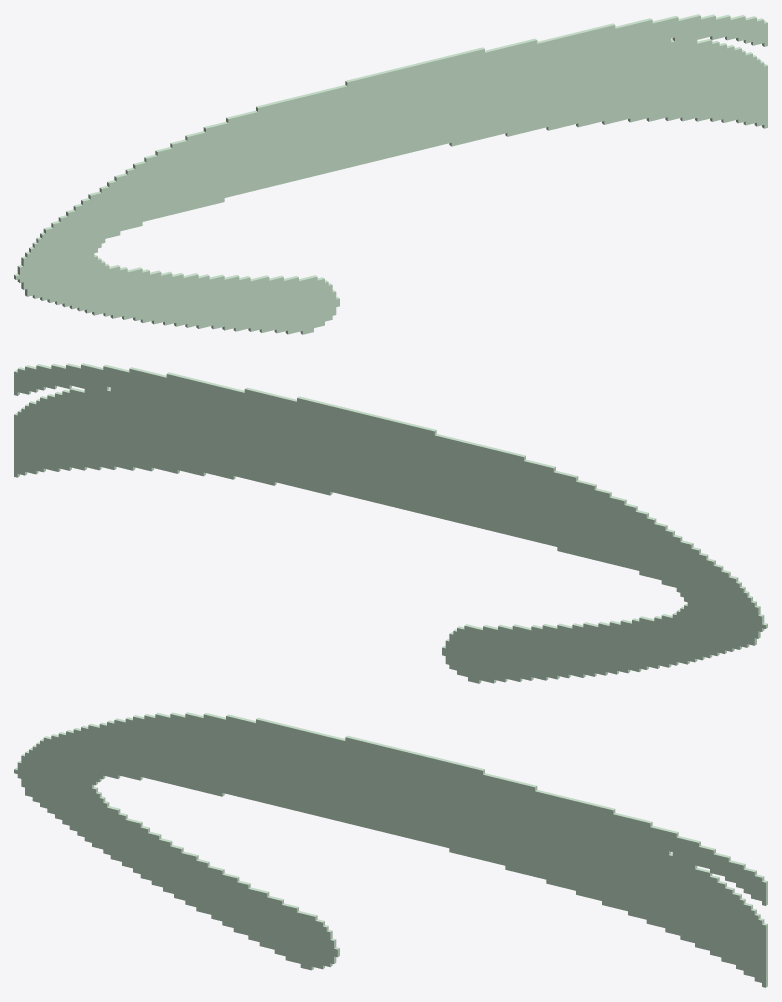
The model's file is Fight_003_2_09_fx.obj.
3 renders of one model, top to bottom at view 1: azimuth 30°, elevation 25°; view 2: azimuth 150°, elevation 25°; view 3: azimuth 330°, elevation 25°, orthographic.
Size of the model in its own units: 20.2 by 6.2 by 0.1.
Materials: 1 (1 with a texture image).
